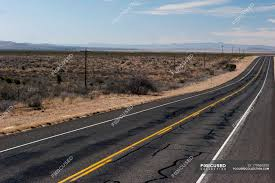strada: (1, 55, 275, 181)
